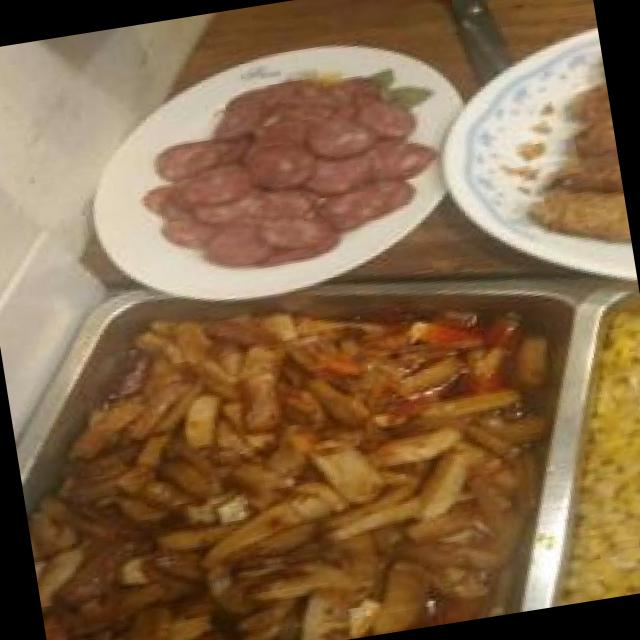chinese_sausage: (142, 64, 430, 281)
